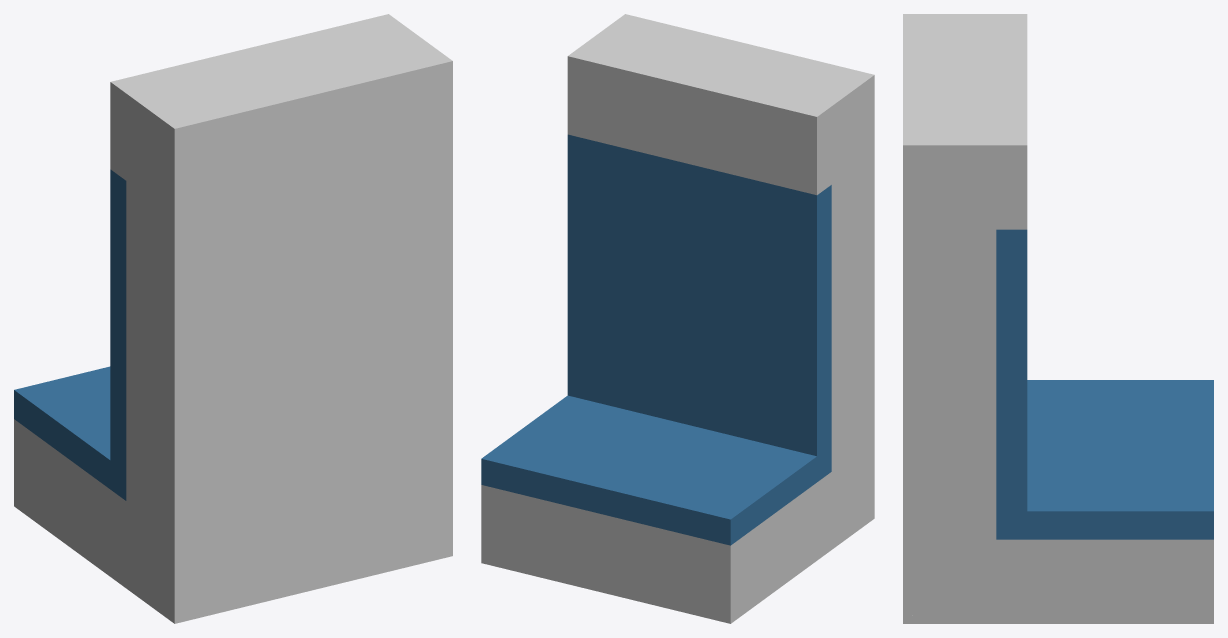
Rendered from buildings_pool-part-edge-1x1m.fbx.
3 renders of one model, left to right at view 1: azimuth 30°, elevation 25°; view 2: azimuth 150°, elevation 25°; view 3: azimuth 270°, elevation 25°, orthographic. The views are drawn at different scales.
Visible parts, largest first — view 1: buildings_pool_part_edge_1x1m; view 2: buildings_pool_part_edge_1x1m; view 3: buildings_pool_part_edge_1x1m.
Part boxes in pixels (x1,y1,x2,y2): buildings_pool_part_edge_1x1m: [14, 14, 452, 623]; buildings_pool_part_edge_1x1m: [481, 14, 874, 623]; buildings_pool_part_edge_1x1m: [903, 14, 1213, 623].
Bounding box in the file's own units: 118 × 200 × 118.
